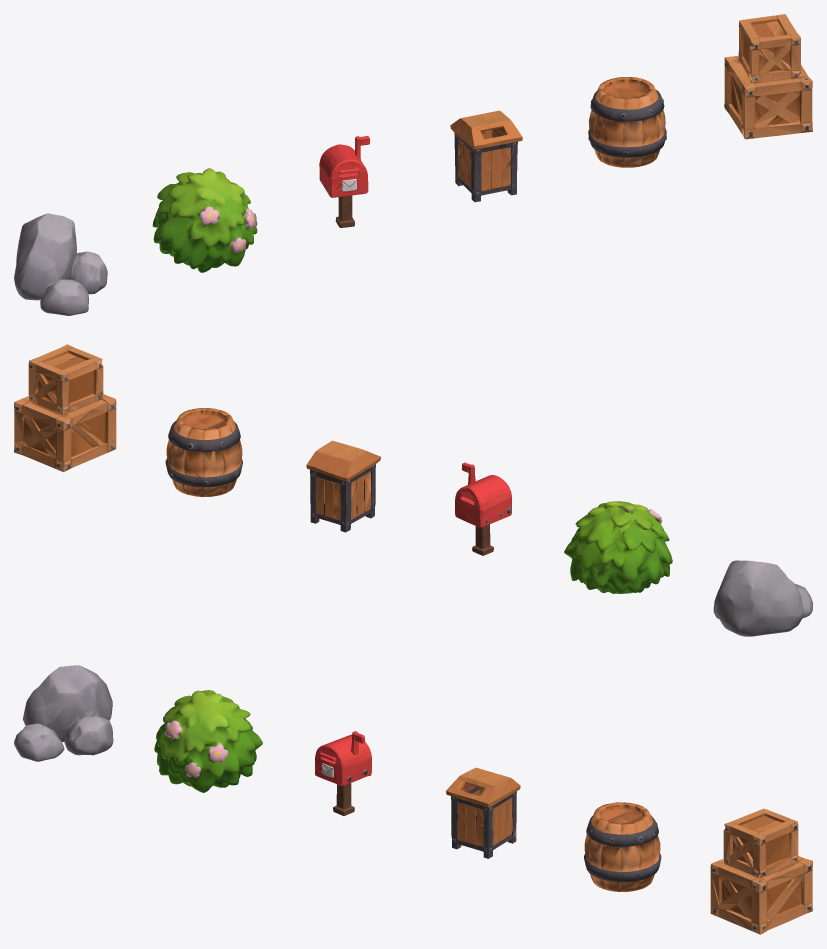
Rendered from props1.glb.
3 views of the same model, one above another, from view 1: azimuth 30°, elevation 25°; view 2: azimuth 150°, elevation 25°; view 3: azimuth 330°, elevation 25° (orthographic).
Parts seen in each view (by area): view 1: crates, bush, rock, barrel, bin, mailbox; view 2: crates, bush, barrel, rock, bin, mailbox; view 3: crates, bush, rock, barrel, bin, mailbox.
Part boxes in pixels (<box>): crates: <box>724,14,812,139</box>; bush: <box>152,168,257,272</box>; rock: <box>14,213,107,315</box>; barrel: <box>588,77,666,167</box>; bin: <box>450,110,522,202</box>; mailbox: <box>319,136,370,227</box>; crates: <box>14,344,116,471</box>; bush: <box>564,501,672,593</box>; barrel: <box>165,408,242,496</box>; rock: <box>713,560,812,636</box>; bin: <box>306,440,380,532</box>; mailbox: <box>455,462,511,555</box>; crates: <box>710,808,812,934</box>; bush: <box>154,690,262,792</box>; rock: <box>14,665,113,761</box>; barrel: <box>584,802,661,891</box>; bin: <box>446,767,520,858</box>; mailbox: <box>315,731,371,815</box>.
Size of the model in its own units: 11.14 by 1.25 by 1.41.
Materials: 6 (6 with a texture image).
